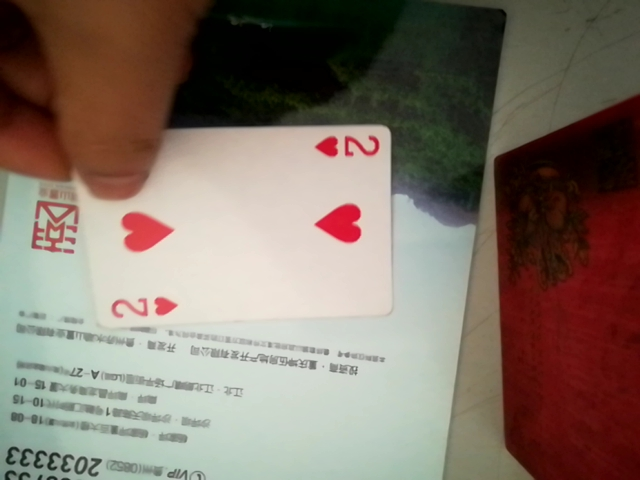hx 2: (60, 117, 395, 332)
